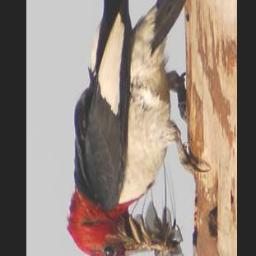Woodpecker: (67, 0, 209, 256)
